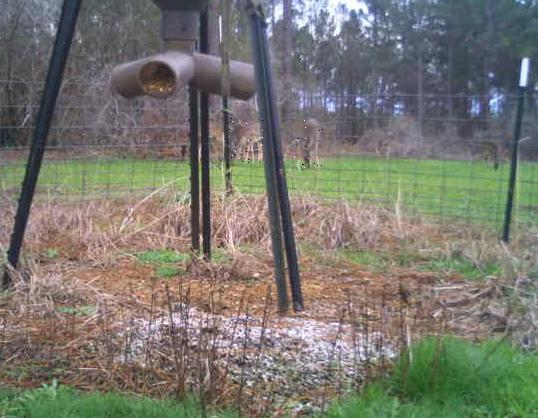Deer: (227, 119, 263, 166), (294, 116, 324, 172)
